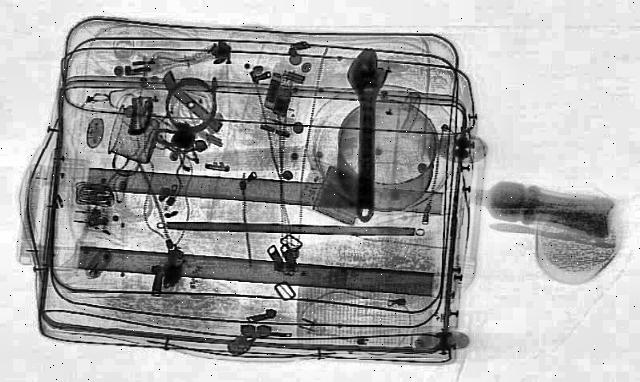Wrench: (344, 48, 388, 222)
